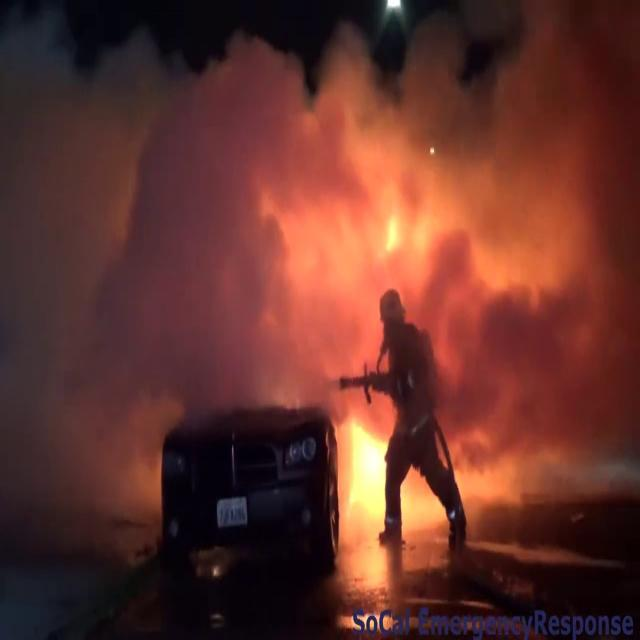Smoke: (1, 2, 635, 364)
